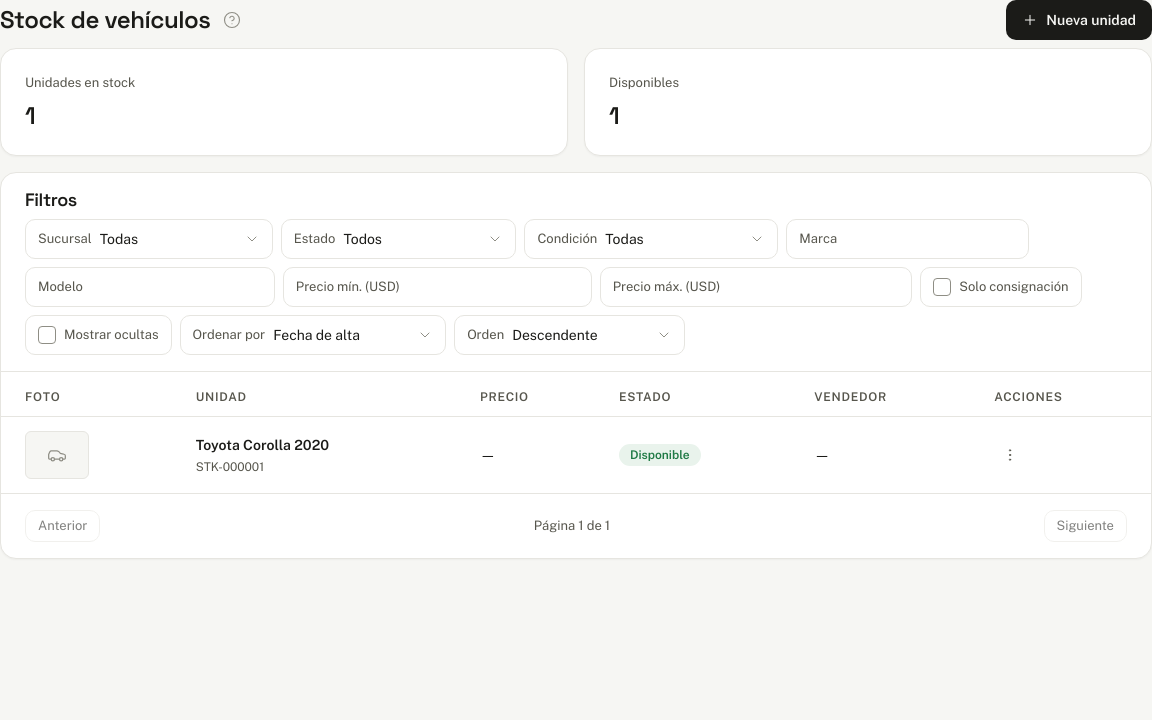
Test case: VehicleListPage › §28 sin origen Consignación el detalle no muestra esa sección
Expected: the text "Toyota Corolla 2020" is shown, top-left (196, 434), bottom-right (329, 456)
Click the button named "Más acciones" at (1010, 455), box top-left (994, 439), bottom-right (1026, 471)
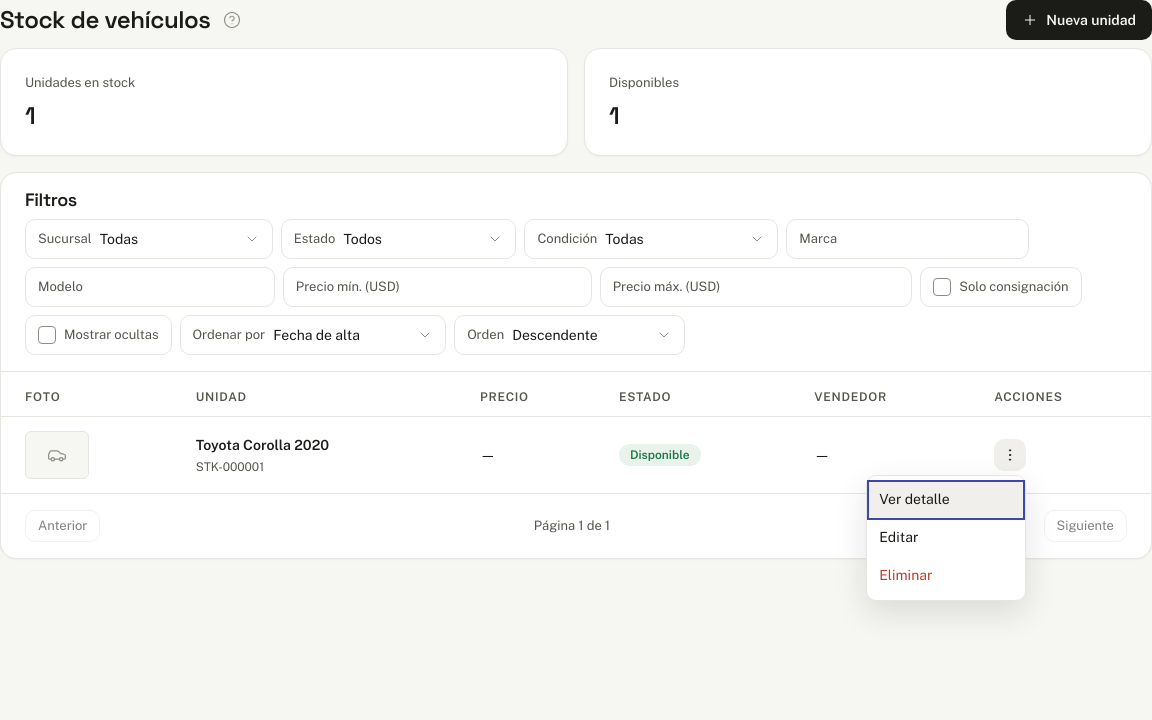
Click the menu item "Ver detalle" at (946, 500), box top-left (867, 480), bottom-right (1025, 520)
(page scrolled)
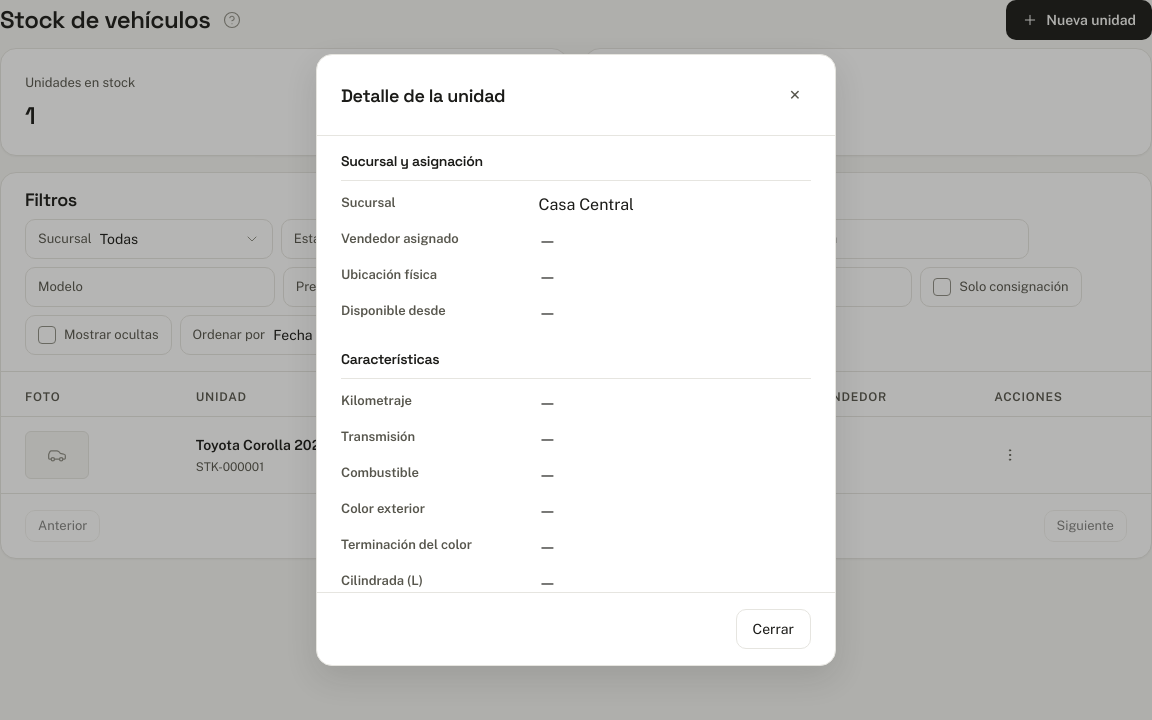
Expected: the heading "Características" is shown, top-left (341, 349), bottom-right (811, 379)
